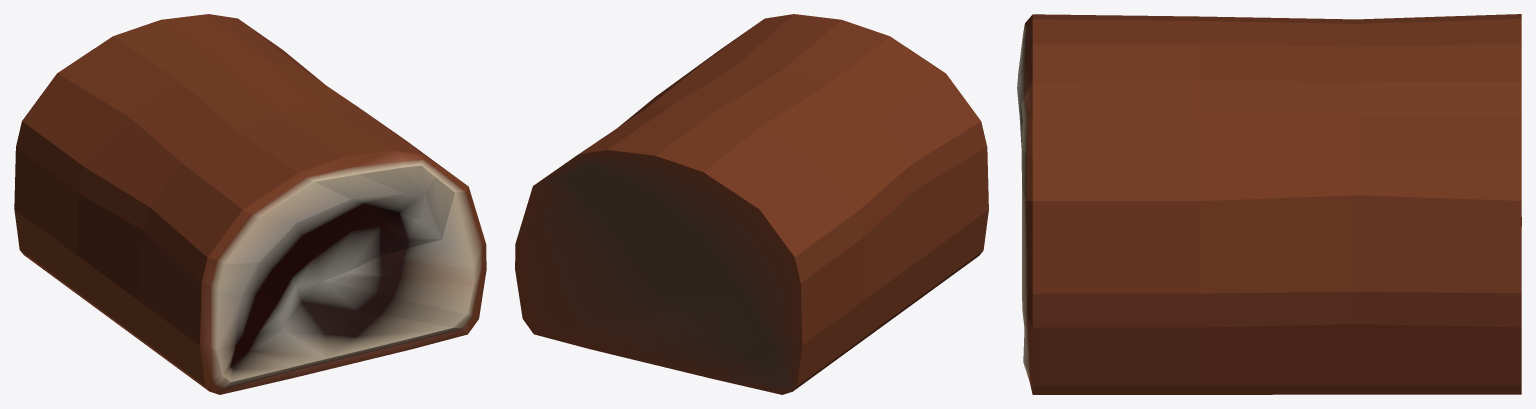
File: cinnamon_bread.glb
3 views of the same model, side by side, from view 1: azimuth 30°, elevation 25°; view 2: azimuth 150°, elevation 25°; view 3: azimuth 270°, elevation 25° (orthographic). The views are drawn at different scales.
Visible parts, largest first — view 1: BezierCurve.001; view 2: BezierCurve.001; view 3: BezierCurve.001.
Part boxes in pixels (x1,y1,x2,y2): BezierCurve.001: (14, 14, 486, 394); BezierCurve.001: (515, 14, 988, 394); BezierCurve.001: (1017, 14, 1521, 394).
Size of the model in its own units: 1.6 by 1.12 by 1.86.
